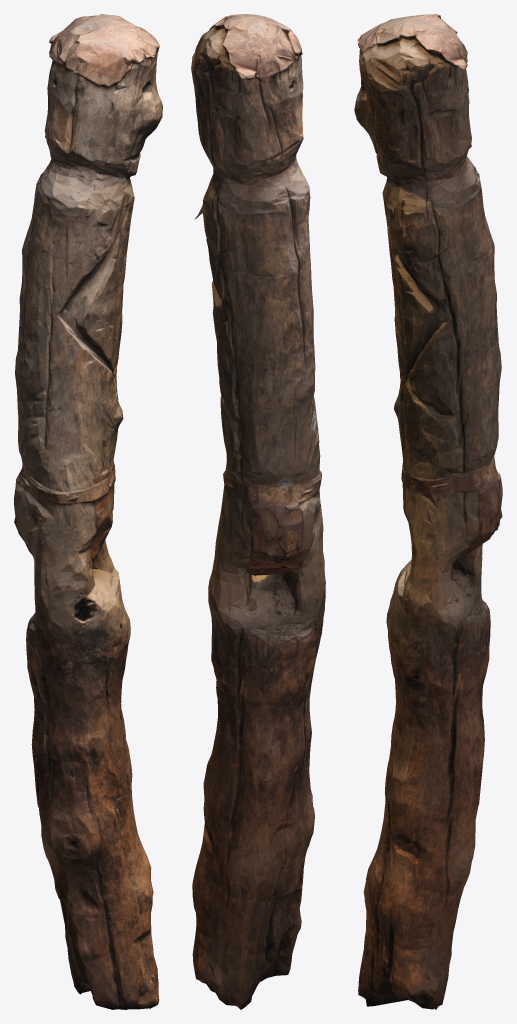
The model's file is Boccio004.glb.
3 views of the same model, side by side, from view 1: azimuth 90°, elevation 25°; view 2: azimuth 210°, elevation 25°; view 3: azimuth 270°, elevation 25° (orthographic).
Parts seen in each view (by area): view 1: Boccio004; view 2: Boccio004; view 3: Boccio004.
Part boxes in pixels (left/top/right/bottom): Boccio004: left=14, top=14, right=162, bottom=1009; Boccio004: left=191, top=14, right=325, bottom=1009; Boccio004: left=354, top=14, right=502, bottom=1009.
Size of the model in its own units: 0.1315 by 1.16 by 0.1577.
Materials: 1 (1 with a texture image).
